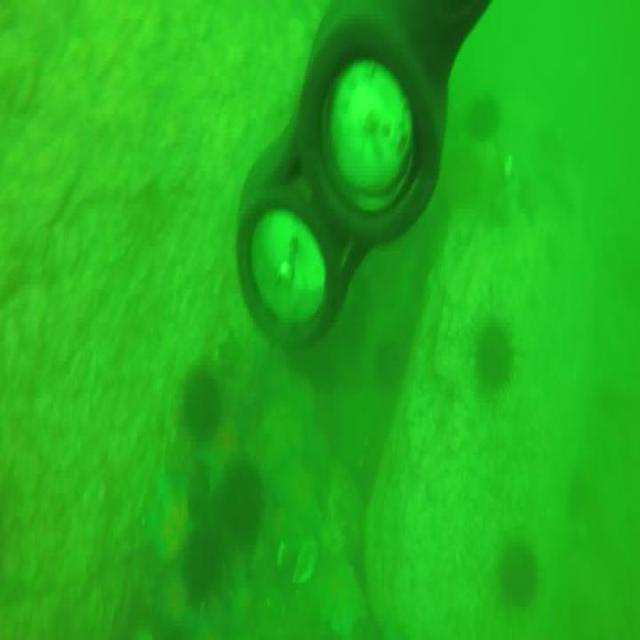echinus: (221, 460, 266, 548), (178, 536, 228, 613), (180, 368, 224, 446), (476, 320, 514, 390), (500, 542, 536, 607)
